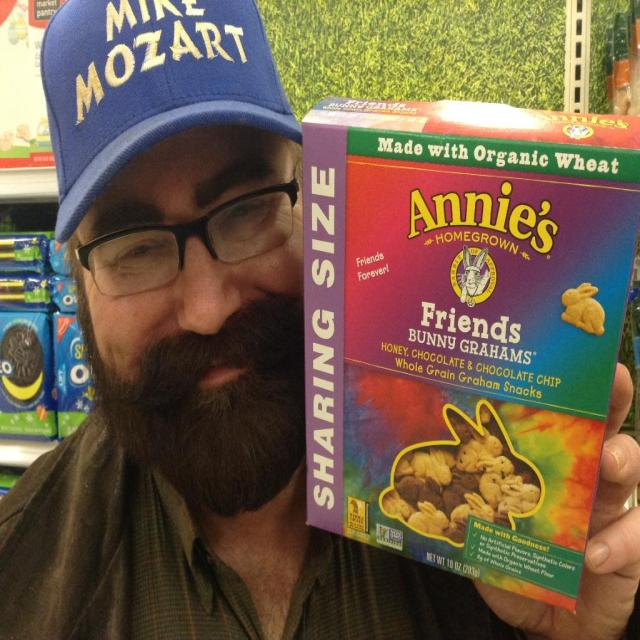Hat: (36, 0, 304, 257)
